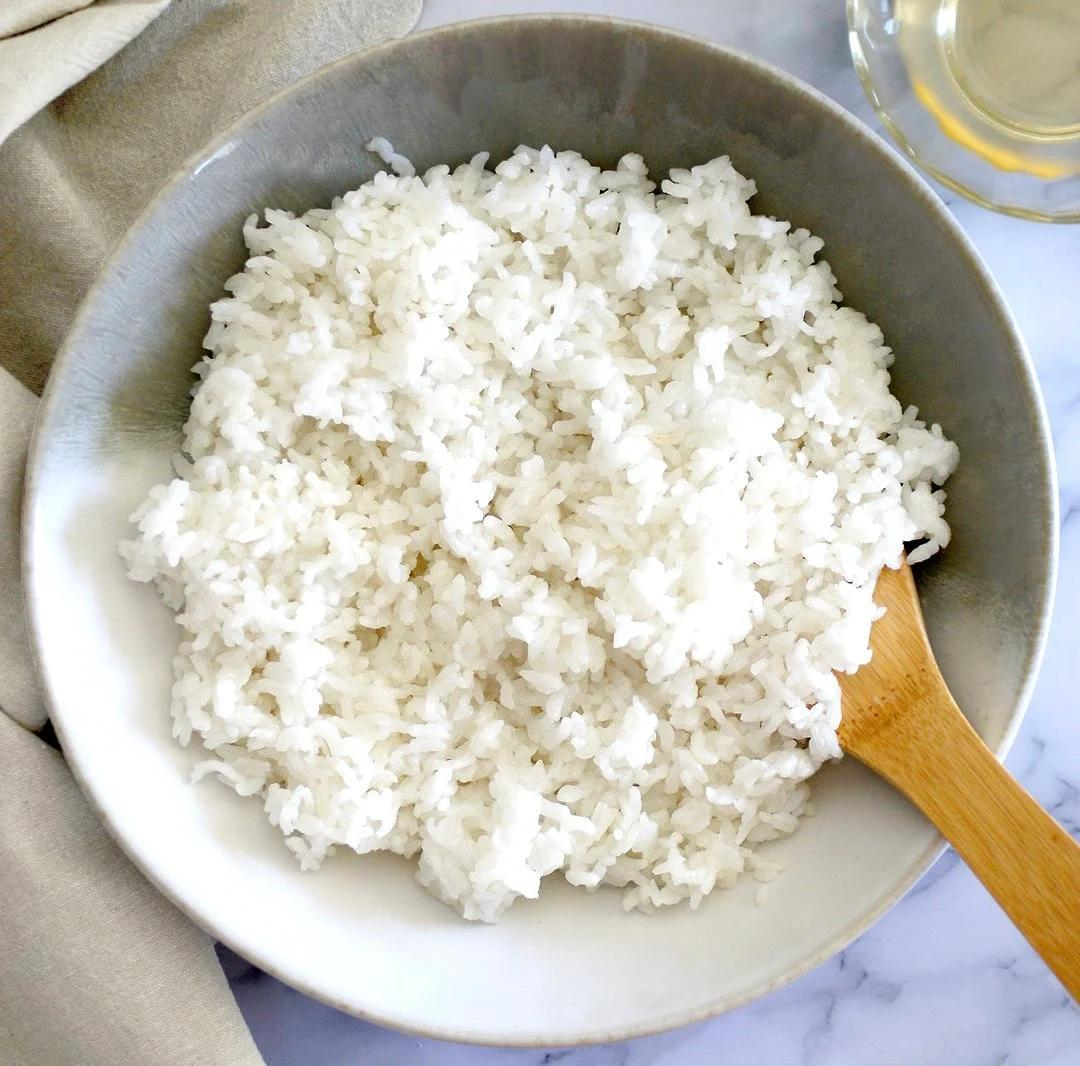rice: (123, 146, 951, 921)
